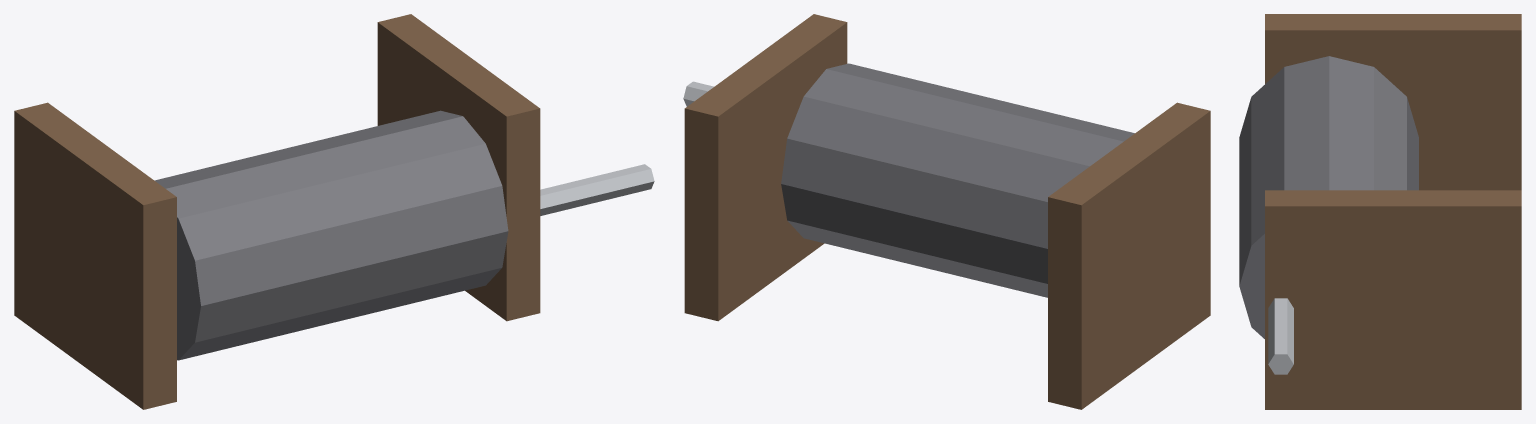
The model's file is skyship_anchor_winch.glb.
3 renders of one model, left to right at view 1: azimuth 30°, elevation 25°; view 2: azimuth 150°, elevation 25°; view 3: azimuth 270°, elevation 25°, orthographic.
Parts seen in each view (by area): view 1: drum, frame_l, frame_r, handle; view 2: drum, frame_l, frame_r; view 3: frame_r, frame_l, drum, handle.
Boxes of the visible parts, x1,y1,x2,y2 form: drum: (154,110,508,360); frame_l: (14,102,176,409); frame_r: (377,14,540,321); handle: (540,164,654,215); drum: (781,63,1134,297); frame_l: (1048,102,1210,409); frame_r: (684,14,847,321); frame_r: (1265,190,1521,409); frame_l: (1265,14,1521,190); drum: (1239,56,1418,338); handle: (1268,298,1293,374).
Bounding box in the file's own units: 1.83 × 0.7 × 0.88.
